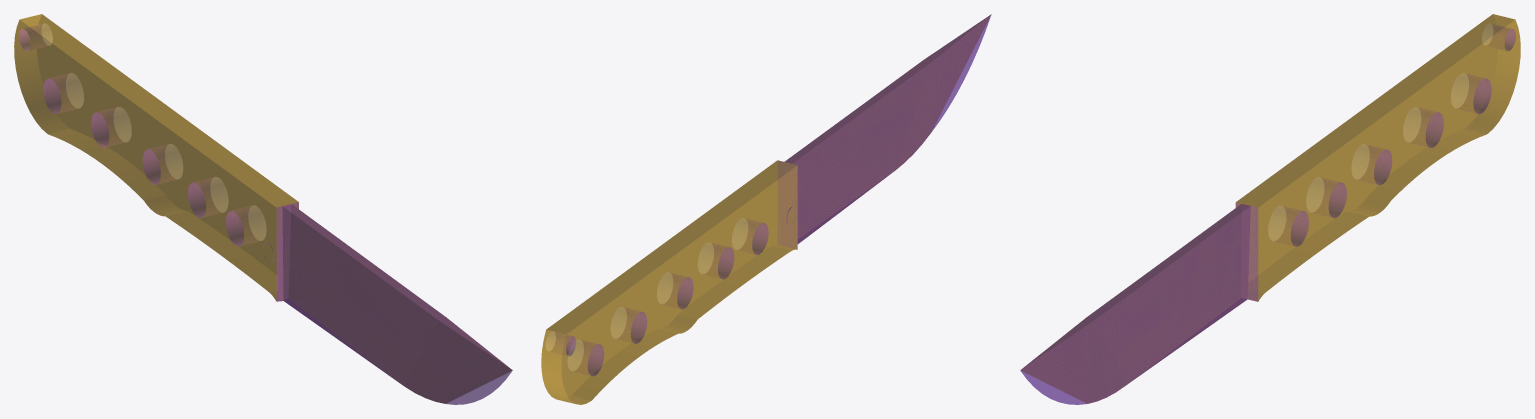
The model's file is model_scale.obj.
3 views of the same model, side by side, from view 1: azimuth 30°, elevation 25°; view 2: azimuth 150°, elevation 25°; view 3: azimuth 330°, elevation 25° (orthographic). The views are drawn at different scales.
Visible parts, largest first — view 1: mesh1_mesh1-geometry; view 2: mesh1_mesh1-geometry; view 3: mesh1_mesh1-geometry.
Part boxes in pixels (<box>): mesh1_mesh1-geometry: <box>14,14,512,404</box>; mesh1_mesh1-geometry: <box>541,14,991,404</box>; mesh1_mesh1-geometry: <box>1020,14,1520,404</box>.
Bounding box in the file's own units: 0.00595 × 0.0229 × 0.2152.
